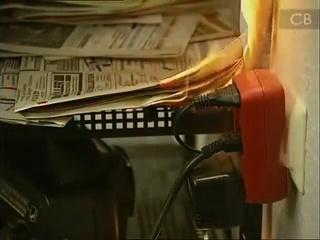Fire: (120, 1, 262, 119)
